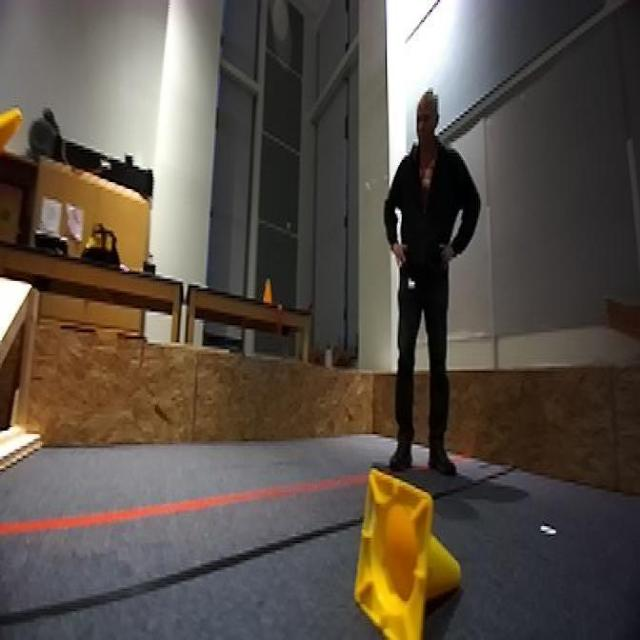frc_cone: (351, 471, 456, 640), (0, 100, 29, 189)
